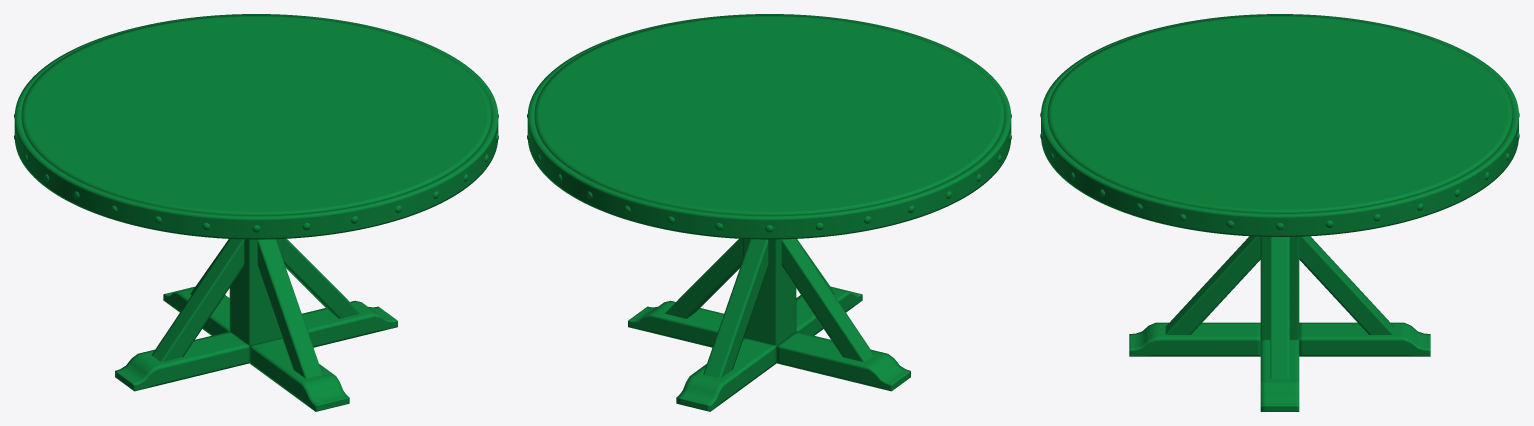
File: roundtable.fbx
3 renders of one model, left to right at view 1: azimuth 30°, elevation 25°; view 2: azimuth 150°, elevation 25°; view 3: azimuth 270°, elevation 25°, orthographic.
Parts seen in each view (by area): view 1: roundtable; view 2: roundtable; view 3: roundtable.
Part boxes in pixels (bbox=[...]): roundtable: bbox=[14, 14, 498, 411]; roundtable: bbox=[527, 14, 1011, 411]; roundtable: bbox=[1040, 14, 1519, 411].
Size of the model in its own units: 124 by 67 by 124.
